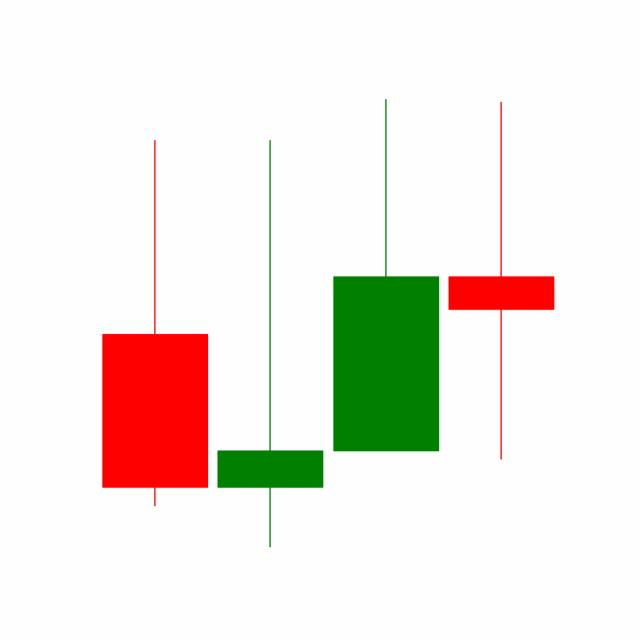Spinning Top: (443, 98, 559, 464)
